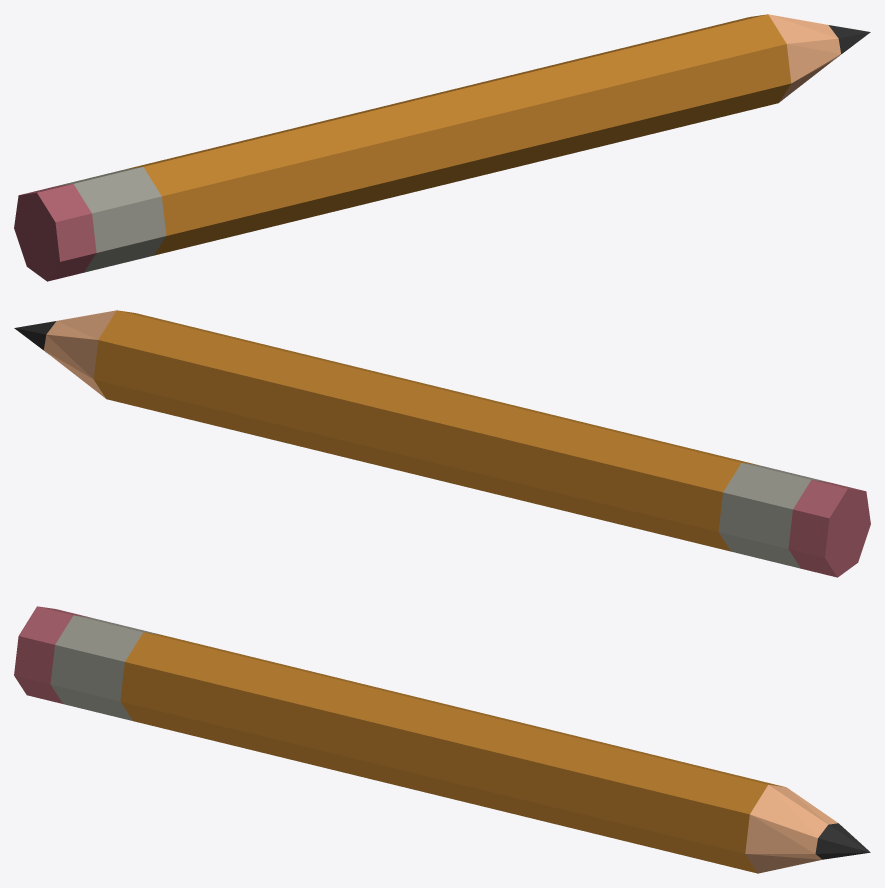
Rendered from Pencil.fbx.
The picture shows the model from 3 angles, top to bottom: view 1: azimuth 30°, elevation 25°; view 2: azimuth 150°, elevation 25°; view 3: azimuth 330°, elevation 25°; orthographic projection.
Parts seen in each view (by area): view 1: pCylinder1; view 2: pCylinder1; view 3: pCylinder1.
Boxes of the visible parts, x1,y1,x2,y2 form: pCylinder1: (14, 14, 870, 281); pCylinder1: (14, 310, 870, 577); pCylinder1: (14, 606, 870, 873).
Size of the model in its own units: 14.47 by 1.35 by 1.38.
